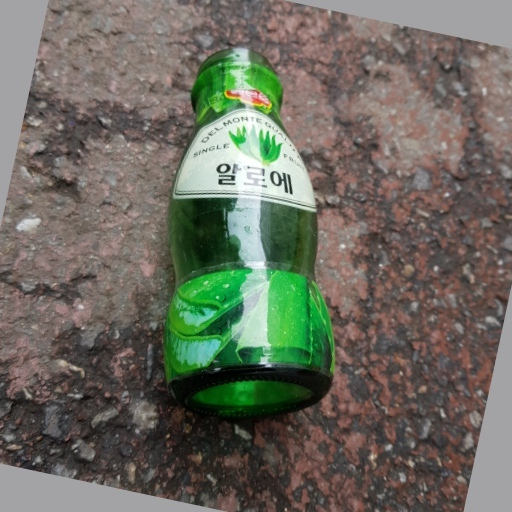Glass_4: (150, 44, 341, 413)
